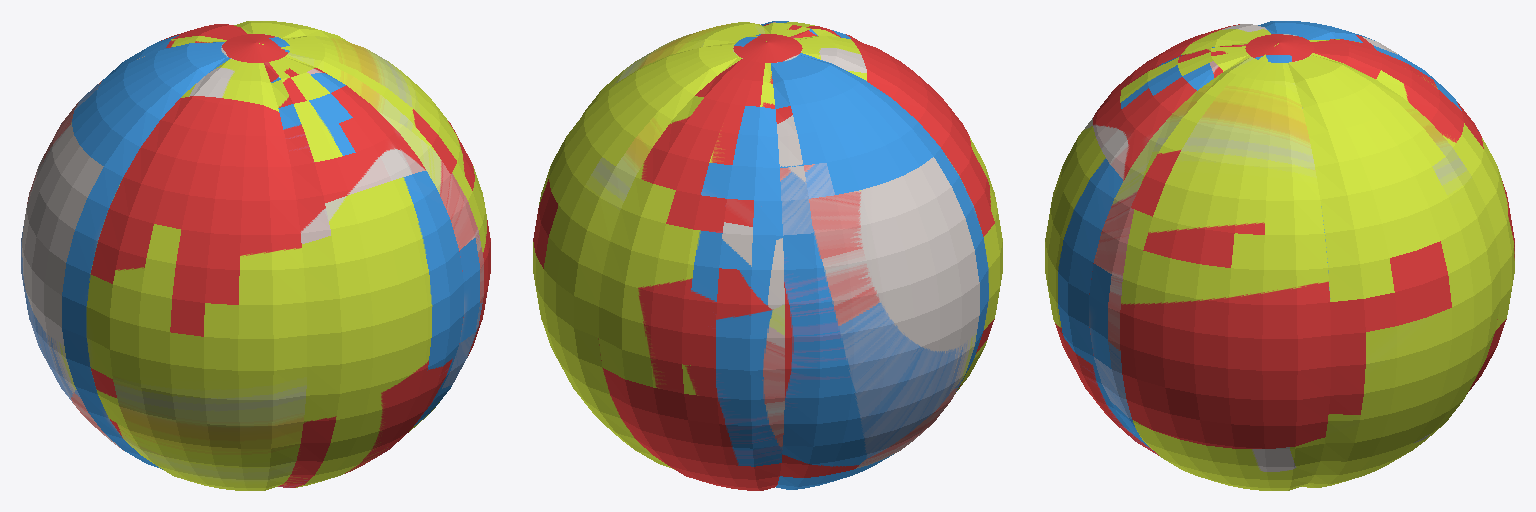
The picture shows the model from 3 angles: view 1: azimuth 30°, elevation 25°; view 2: azimuth 150°, elevation 25°; view 3: azimuth 270°, elevation 25°; orthographic projection.
Visible parts, largest first — view 1: Sphere.001; view 2: Sphere.001; view 3: Sphere.001.
Part boxes in pixels (x1,y1,x2,y2): Sphere.001: (21,21,490,490); Sphere.001: (533,21,1002,490); Sphere.001: (1045,21,1514,490).
Size of the model in its own units: 1.99 by 2 by 1.99.
Materials: 1 (1 with a texture image).